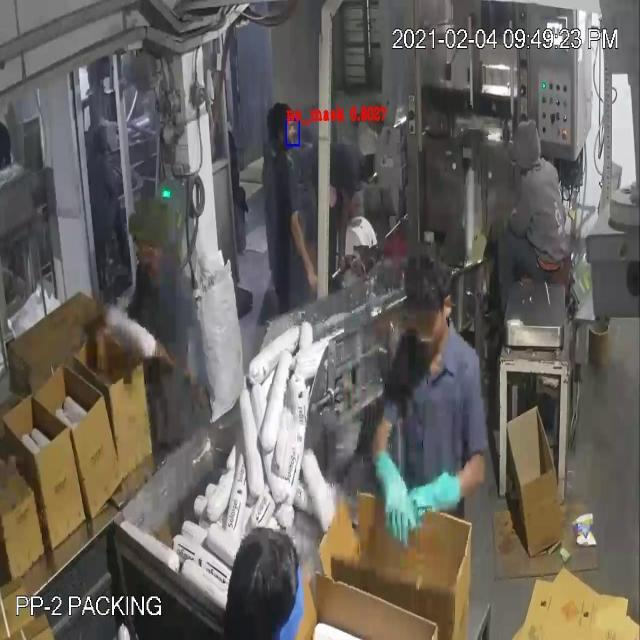No_Gloves: (45, 76, 434, 500)
